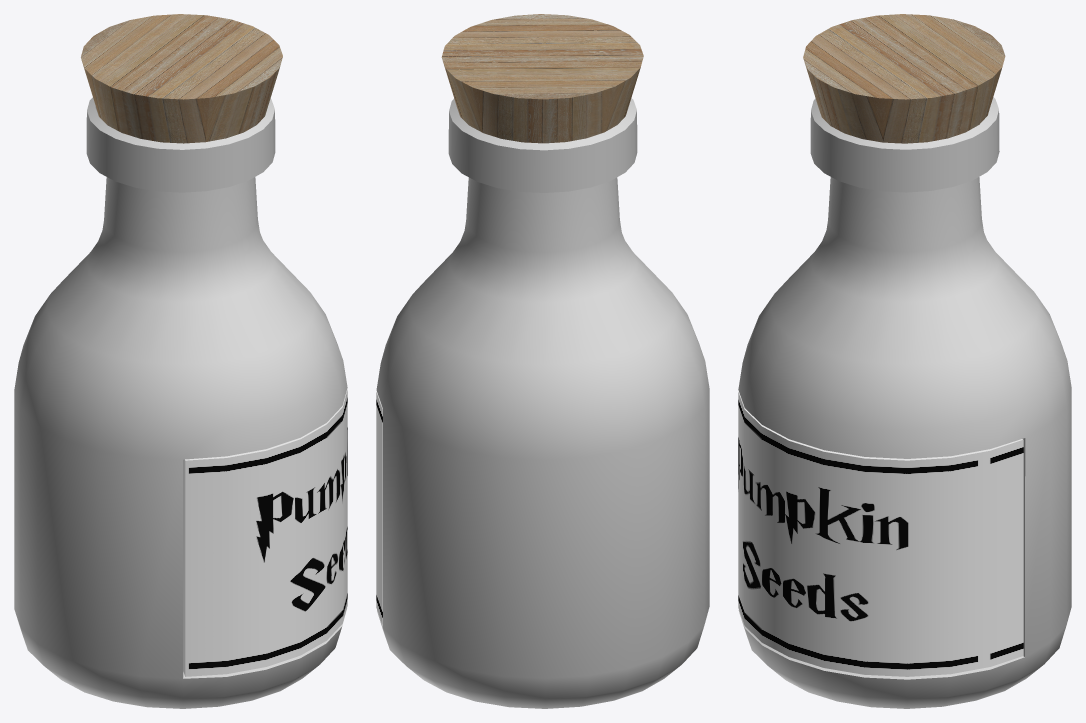
File: pumpkin.fbx
3 renders of one model, left to right at view 1: azimuth 30°, elevation 25°; view 2: azimuth 150°, elevation 25°; view 3: azimuth 270°, elevation 25°, orthographic.
Parts seen in each view (by area): view 1: Circle.097, Circle.096, Circle.098; view 2: Circle.097, Circle.098, Circle.096; view 3: Circle.097, Circle.096, Circle.098.
Part boxes in pixels (x1,y1,x2,y2): Circle.097: [14, 97, 347, 708]; Circle.096: [183, 388, 347, 676]; Circle.098: [81, 14, 282, 143]; Circle.097: [376, 98, 709, 708]; Circle.098: [441, 14, 643, 143]; Circle.096: [376, 391, 382, 625]; Circle.097: [738, 97, 1071, 708]; Circle.096: [738, 390, 1023, 676]; Circle.098: [803, 14, 1005, 143].
Bounding box in the file's own units: 10.22 × 20.3 × 10.22.
